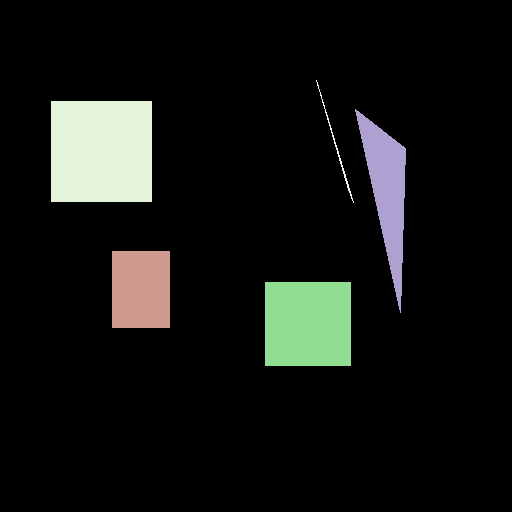rectangle: (112, 251, 169, 327)
square: (51, 101, 151, 201), (265, 282, 350, 365)
triangle: (355, 109, 405, 312)
